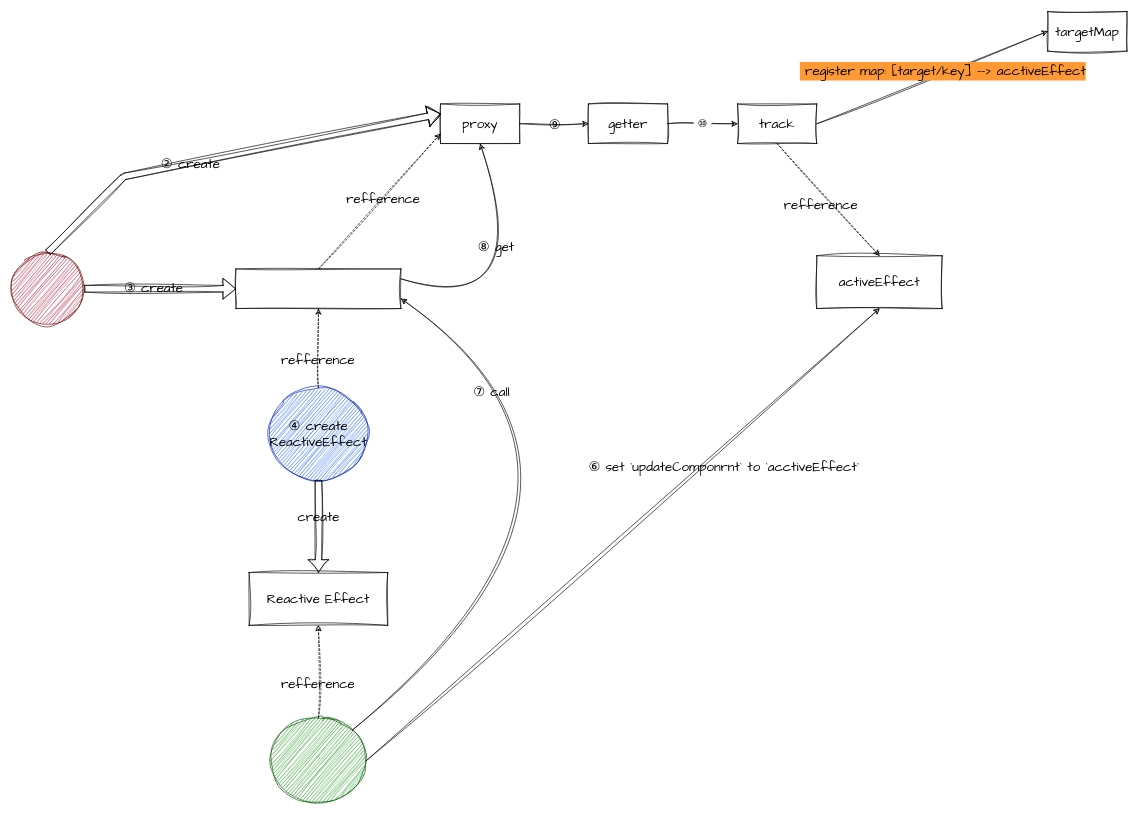
Image size: 1139x815. Some labels were removed from this diagram. The box of each missing label's shape, as (x1, y1, x2, y2) in pixels:
updateComponent fn: (235, 268, 401, 309)
① setup execution: (11, 252, 84, 325)
⑤ Effect execution: (270, 717, 366, 804)
